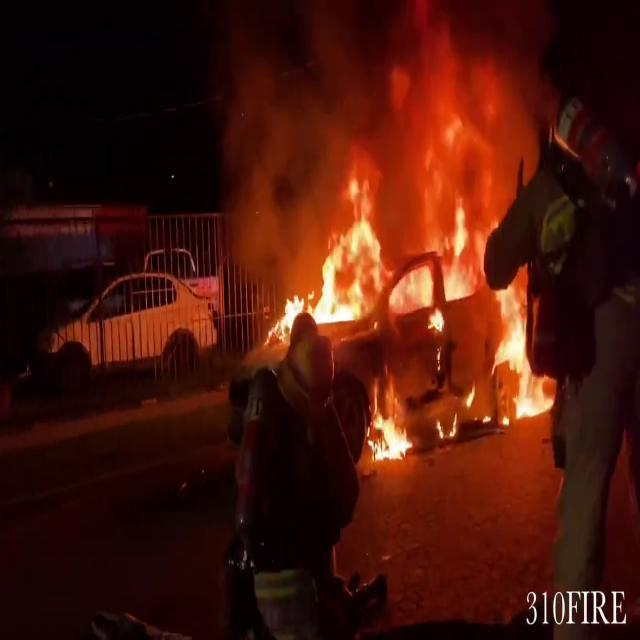Fire: (268, 109, 554, 452), (360, 376, 415, 468)
Smoke: (207, 12, 363, 264)
